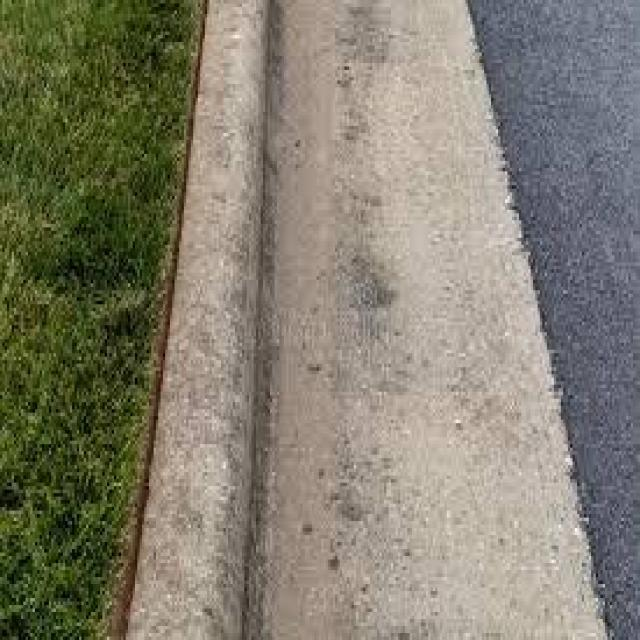bump: (121, 7, 321, 640)
